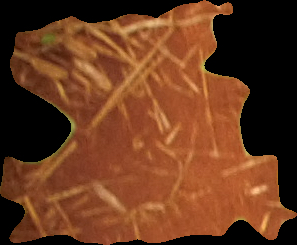soil: (2, 1, 296, 243)
